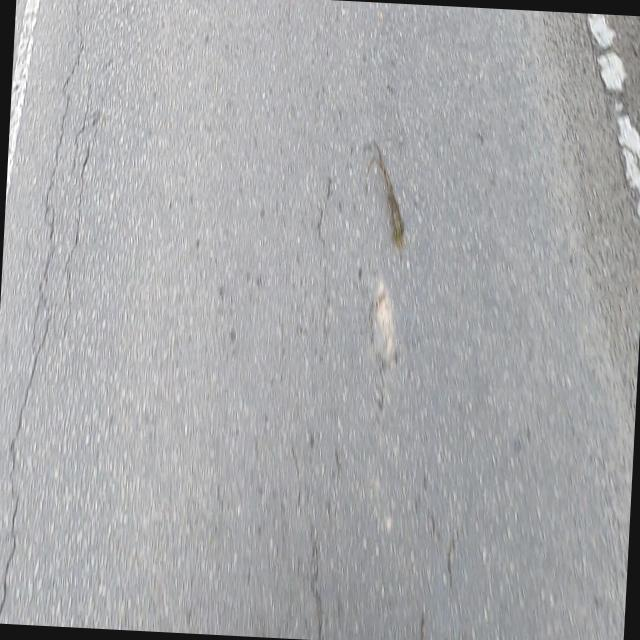Retak-Memanjang: (0, 0, 85, 622), (65, 113, 105, 330)
